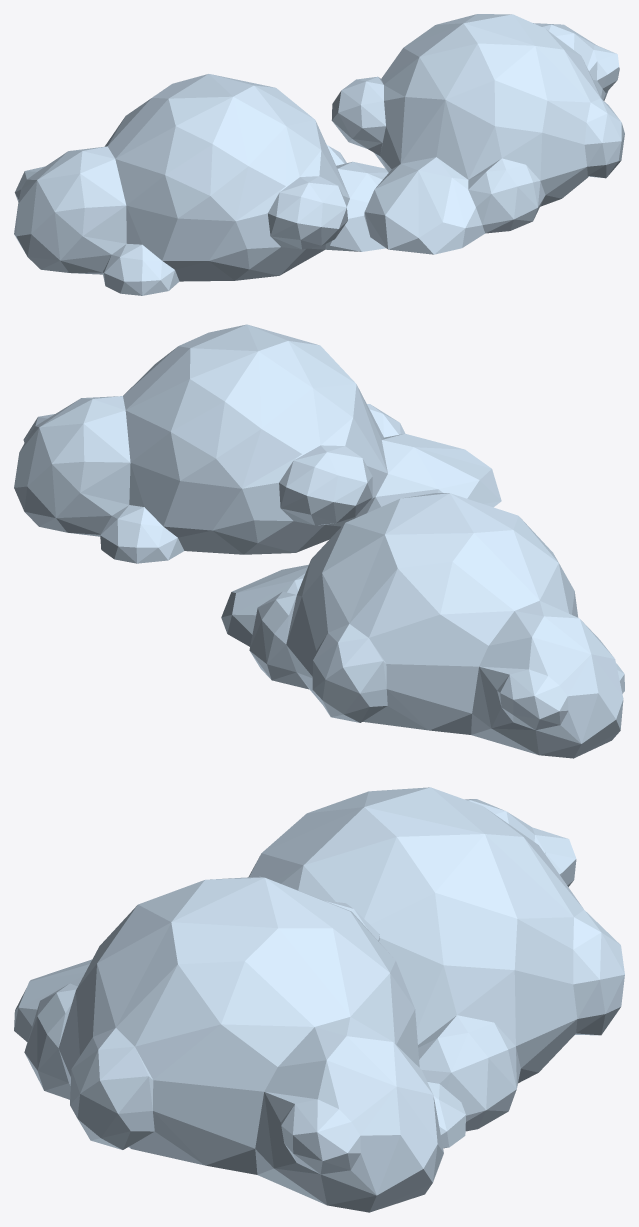
File: Clouds.gltf
The picture shows the model from 3 angles, top to bottom: view 1: azimuth 30°, elevation 25°; view 2: azimuth 150°, elevation 25°; view 3: azimuth 270°, elevation 25°; orthographic projection. The views are drawn at different scales.
Visible parts, largest first — view 1: Icosphere.005, Icosphere.000; view 2: Icosphere.000, Icosphere.005; view 3: Icosphere.000, Icosphere.005.
Boxes of the visible parts, <box> form: Icosphere.005: <box>14,74,388,295</box>; Icosphere.000: <box>331,14,624,254</box>; Icosphere.000: <box>14,324,501,563</box>; Icosphere.005: <box>221,493,624,758</box>; Icosphere.000: <box>14,876,465,1212</box>; Icosphere.005: <box>248,787,624,1131</box>.
Bounding box in the file's own units: 4.86 × 1.74 × 3.09.
